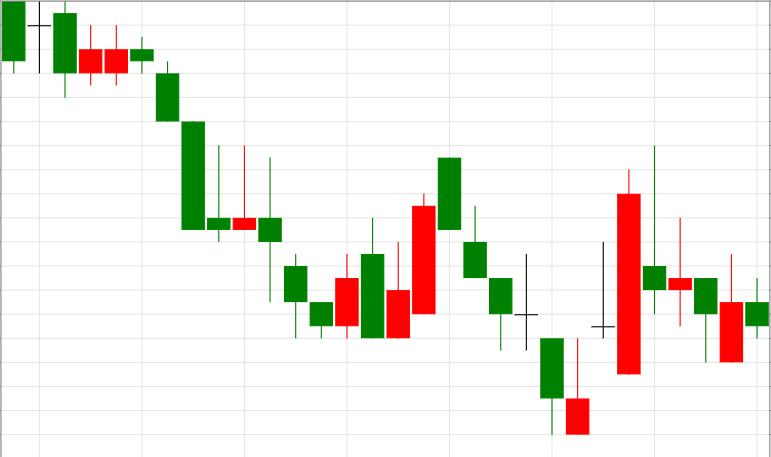bullish_engulfing_rise: (131, 37, 359, 338)
inverse_hammer_rise: (438, 158, 589, 434)
